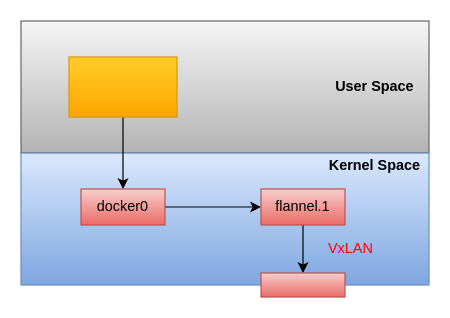
This 450x318 diagram has some shape labels left out. Each missing label, with the box of its shape:
Container1: (68, 56, 177, 117)
eth0: (260, 272, 345, 297)
